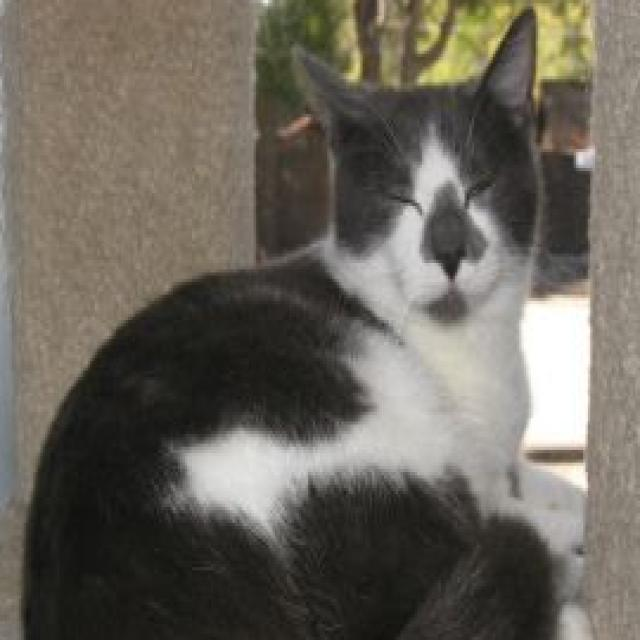British Shorthair: (16, 3, 592, 640)
